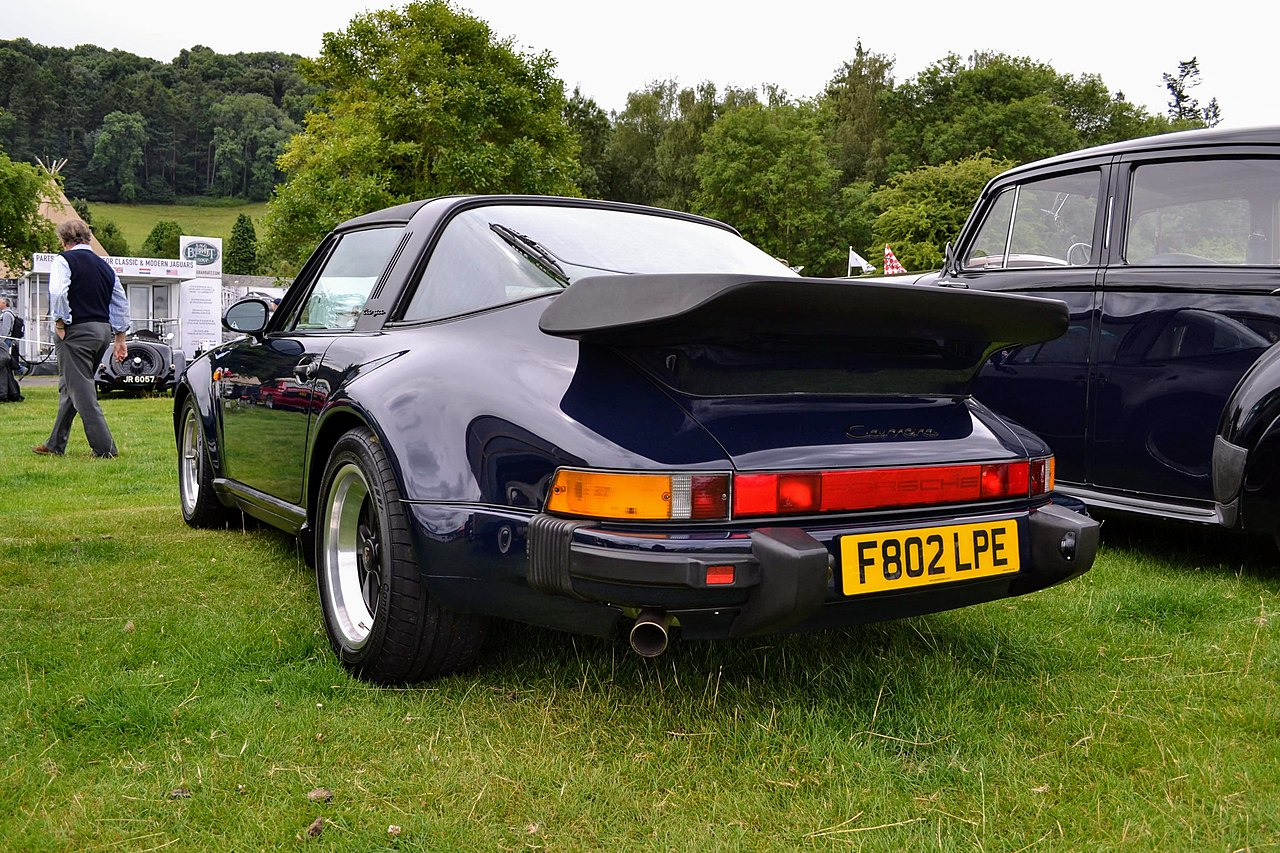plate: (839, 518, 1022, 599), (121, 375, 156, 384)
